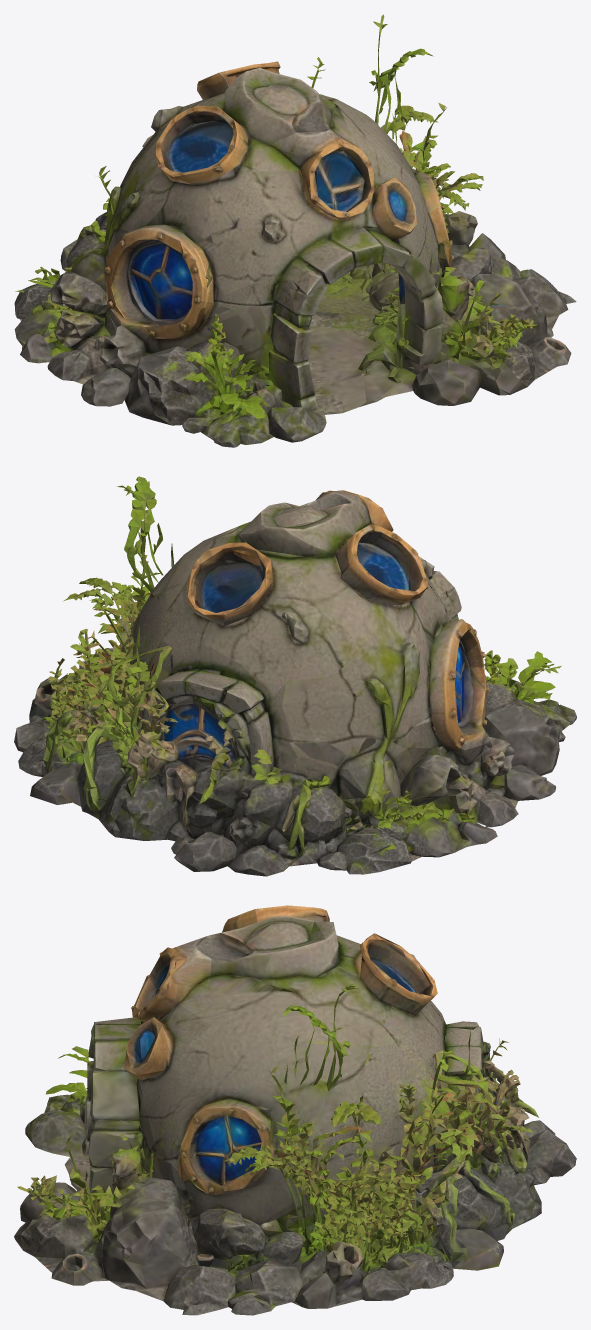
File: dome_house.glb
The picture shows the model from 3 angles, top to bottom: view 1: azimuth 30°, elevation 25°; view 2: azimuth 150°, elevation 25°; view 3: azimuth 270°, elevation 25°; orthographic projection. The views are drawn at different scales.
Parts seen in each view (by area): view 1: output_unwrapped; view 2: output_unwrapped; view 3: output_unwrapped.
Boxes of the visible parts, x1,y1,x2,y2 form: output_unwrapped: (14,14,576,447); output_unwrapped: (14,476,576,876); output_unwrapped: (14,905,576,1315).
Size of the model in its own units: 1.89 by 0.9709 by 1.83.
Materials: 1 (1 with a texture image).
